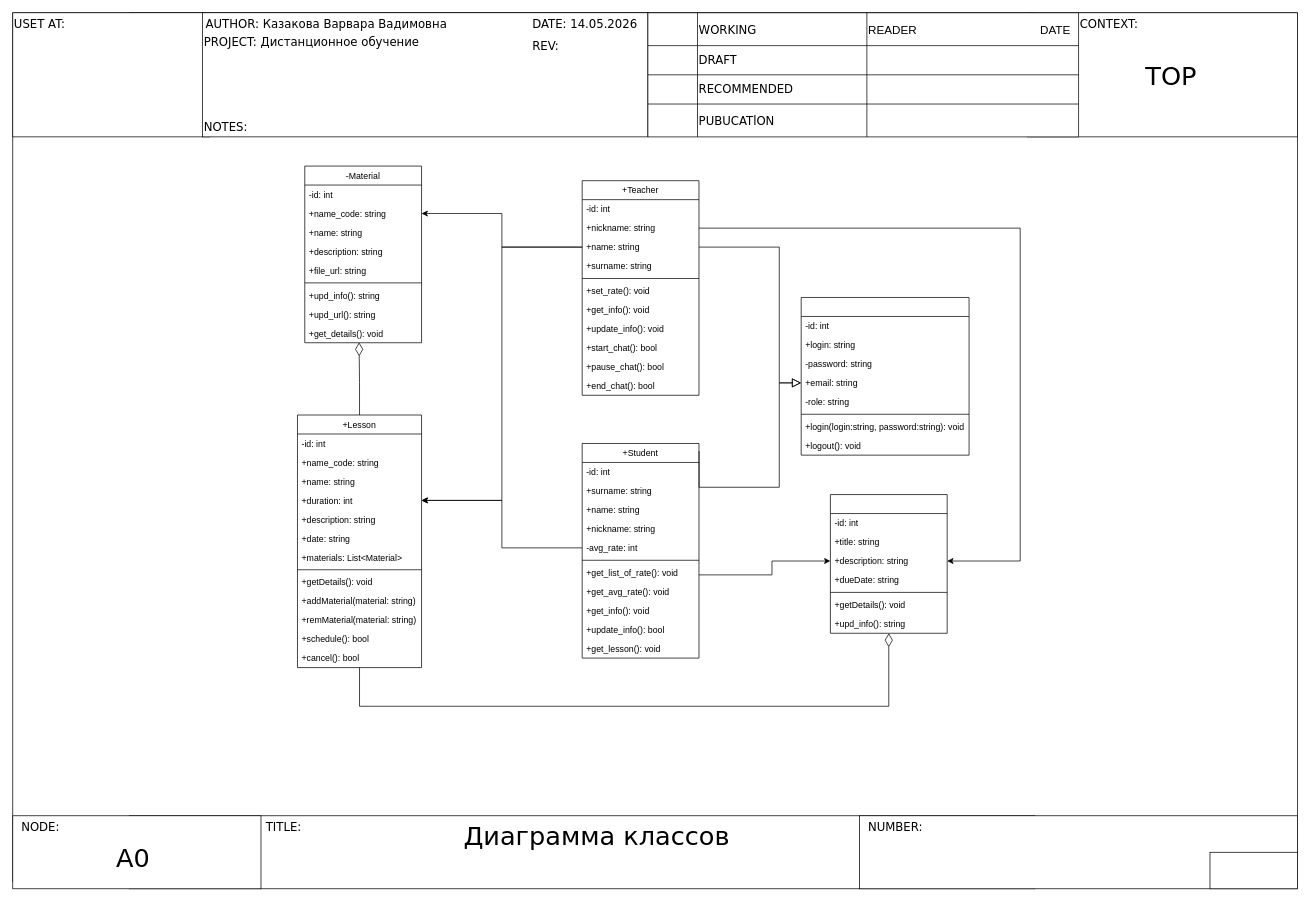
This 1310x902 diagram has some shape labels left out. Here are the shapes that lost their labels. From the top down, the box of each, then its label:
(800, 297, 969, 455): +User
(830, 494, 947, 633): +Assignment
